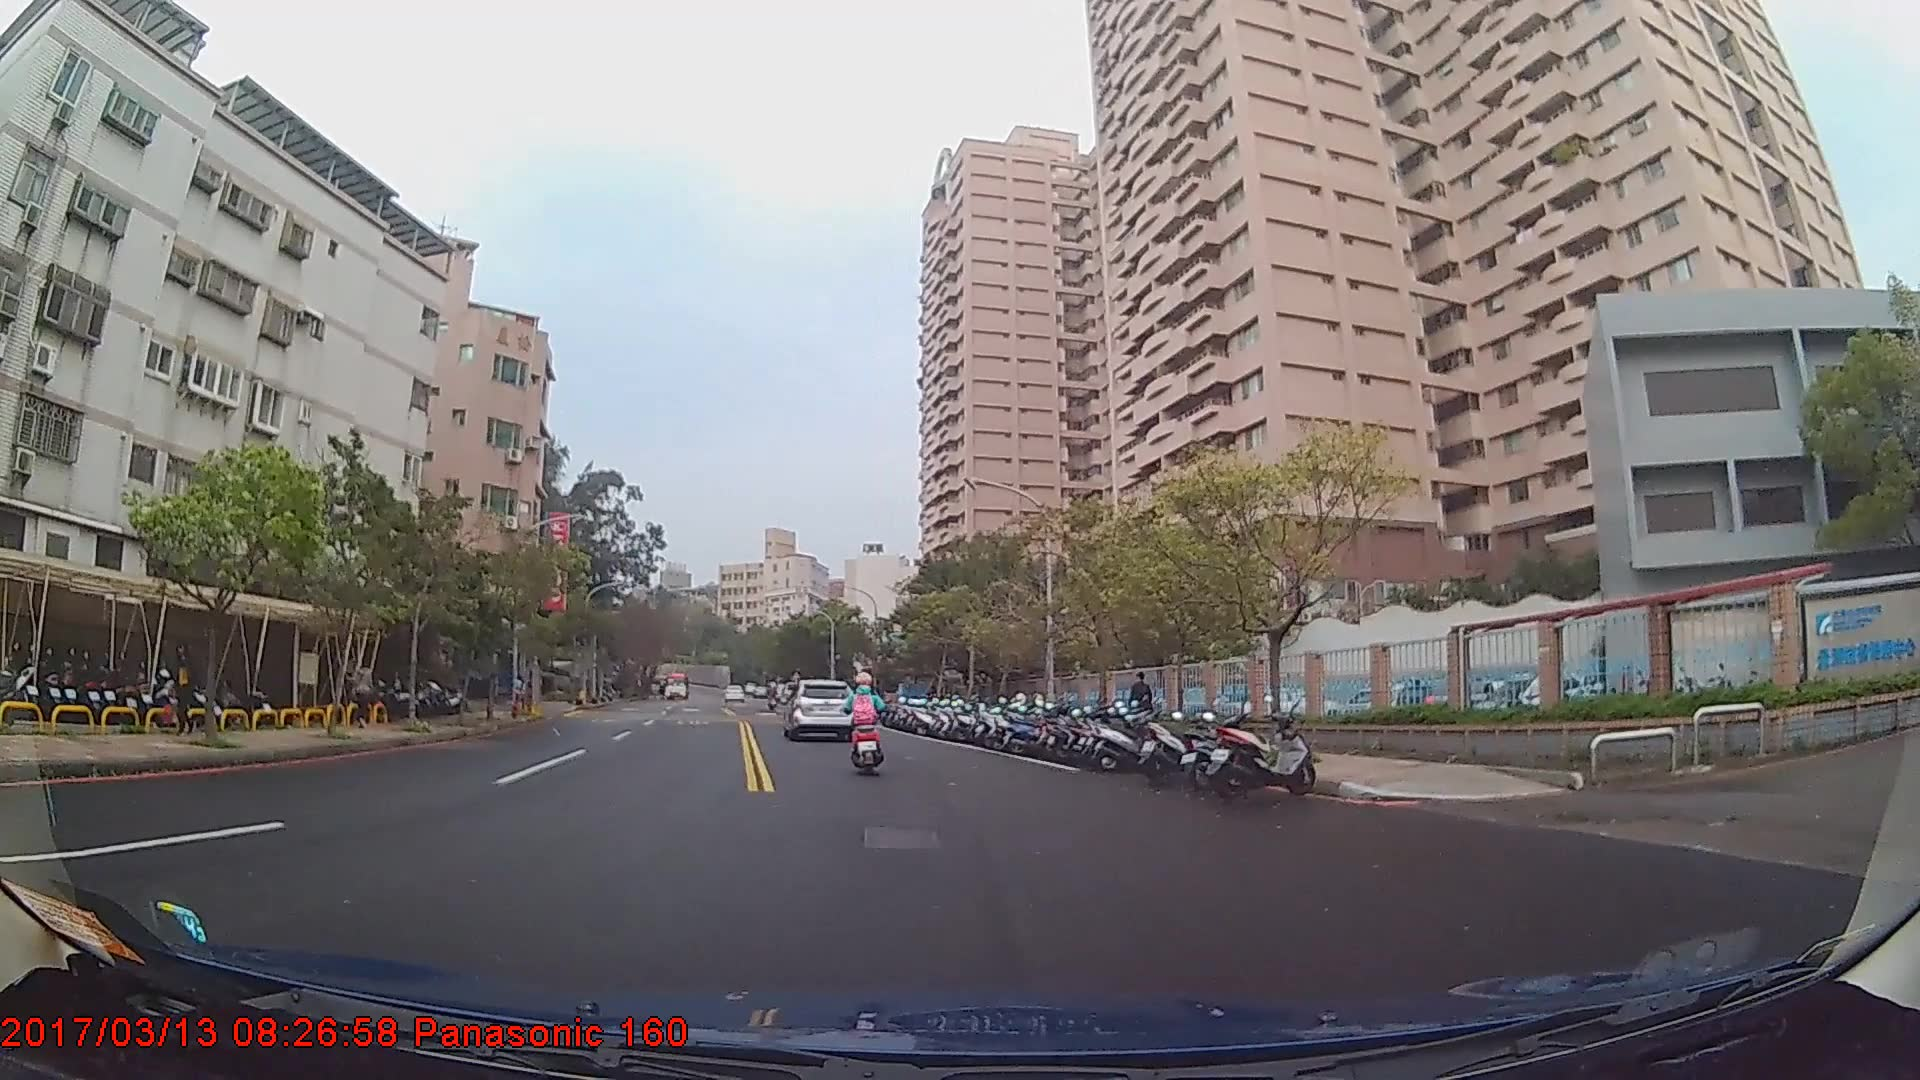pedestrian: (165, 636, 202, 735), (349, 655, 375, 730), (1129, 671, 1157, 739)
rider: (847, 668, 888, 769)
vehicle: (783, 675, 854, 740), (659, 669, 690, 698)
